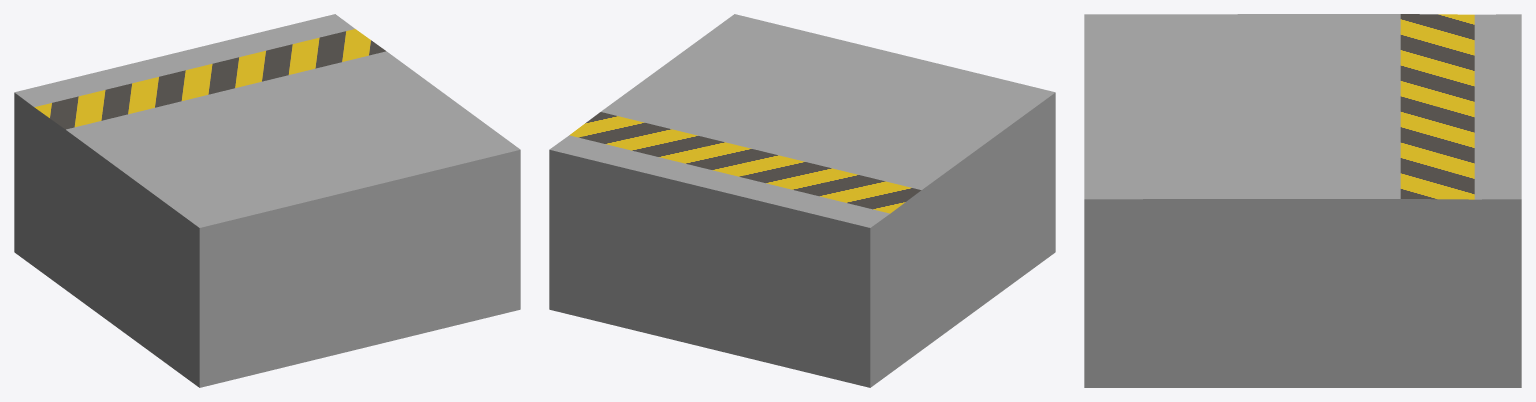
The model's file is LightStoneFloorMediumWarning1.fbx.
3 renders of one model, left to right at view 1: azimuth 30°, elevation 25°; view 2: azimuth 150°, elevation 25°; view 3: azimuth 270°, elevation 25°, orthographic. The views are drawn at different scales.
Parts seen in each view (by area): view 1: LightStoneFloorMediumWarning1; view 2: LightStoneFloorMediumWarning1; view 3: LightStoneFloorMediumWarning1.
Boxes of the visible parts, x1,y1,x2,y2 form: LightStoneFloorMediumWarning1: [14, 14, 520, 387]; LightStoneFloorMediumWarning1: [549, 14, 1055, 387]; LightStoneFloorMediumWarning1: [1084, 14, 1521, 387].
Size of the model in its own units: 400 by 191 by 400.
Materials: 2 (1 with a texture image).
